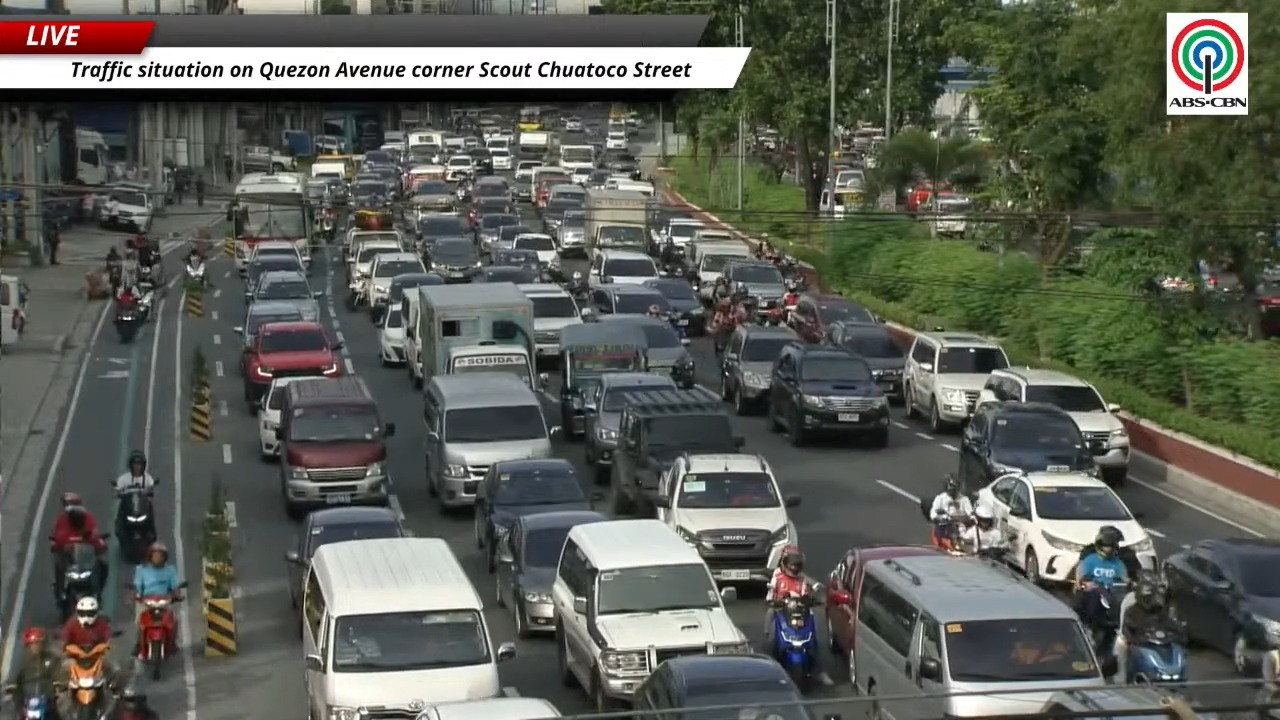bus: (231, 173, 311, 272), (320, 105, 383, 154), (518, 106, 544, 131)
car: (977, 471, 1155, 582), (654, 454, 800, 583), (978, 367, 1129, 484), (609, 386, 744, 516), (1162, 538, 1279, 676), (825, 545, 944, 676), (495, 510, 607, 637), (474, 458, 591, 572), (766, 342, 889, 447), (958, 402, 1096, 492), (286, 506, 406, 607), (633, 655, 814, 719), (903, 331, 1009, 433), (583, 372, 675, 483), (241, 321, 343, 409), (721, 325, 796, 415), (826, 320, 905, 401), (1039, 685, 1219, 719), (599, 314, 694, 377), (518, 283, 582, 358), (788, 293, 877, 342), (257, 376, 308, 461), (364, 252, 425, 321), (246, 271, 321, 320), (643, 277, 706, 334), (233, 301, 303, 349), (416, 697, 560, 719), (721, 259, 785, 307), (100, 184, 153, 233), (589, 284, 669, 316), (589, 249, 659, 284), (348, 237, 402, 282), (239, 240, 305, 276), (428, 237, 480, 282), (245, 254, 305, 287), (388, 272, 443, 306), (408, 180, 455, 218), (416, 212, 470, 244), (377, 304, 404, 366), (475, 212, 519, 250), (541, 196, 583, 234), (511, 232, 556, 265), (555, 210, 586, 256), (1255, 278, 1279, 337), (467, 195, 517, 223), (658, 218, 704, 247), (471, 266, 540, 284), (489, 224, 533, 250), (470, 177, 512, 202), (490, 248, 539, 269), (446, 155, 475, 181), (468, 148, 493, 175), (490, 148, 511, 170), (584, 170, 609, 188), (605, 131, 628, 150), (571, 167, 594, 185), (564, 117, 583, 132)
motorcycle: (772, 585, 819, 691), (1125, 623, 1186, 683), (65, 643, 113, 719), (57, 541, 103, 620), (1081, 582, 1128, 658), (136, 596, 179, 679), (116, 489, 156, 564), (919, 498, 968, 553), (114, 303, 143, 343), (17, 693, 56, 719), (137, 261, 165, 293), (344, 278, 366, 311), (756, 300, 783, 326), (184, 260, 209, 287), (667, 312, 688, 343), (106, 260, 122, 295), (321, 207, 336, 240), (783, 292, 799, 315)
truck: (412, 283, 537, 387), (584, 188, 649, 256), (75, 127, 109, 185), (242, 145, 296, 172), (556, 144, 594, 170), (517, 131, 550, 158)
